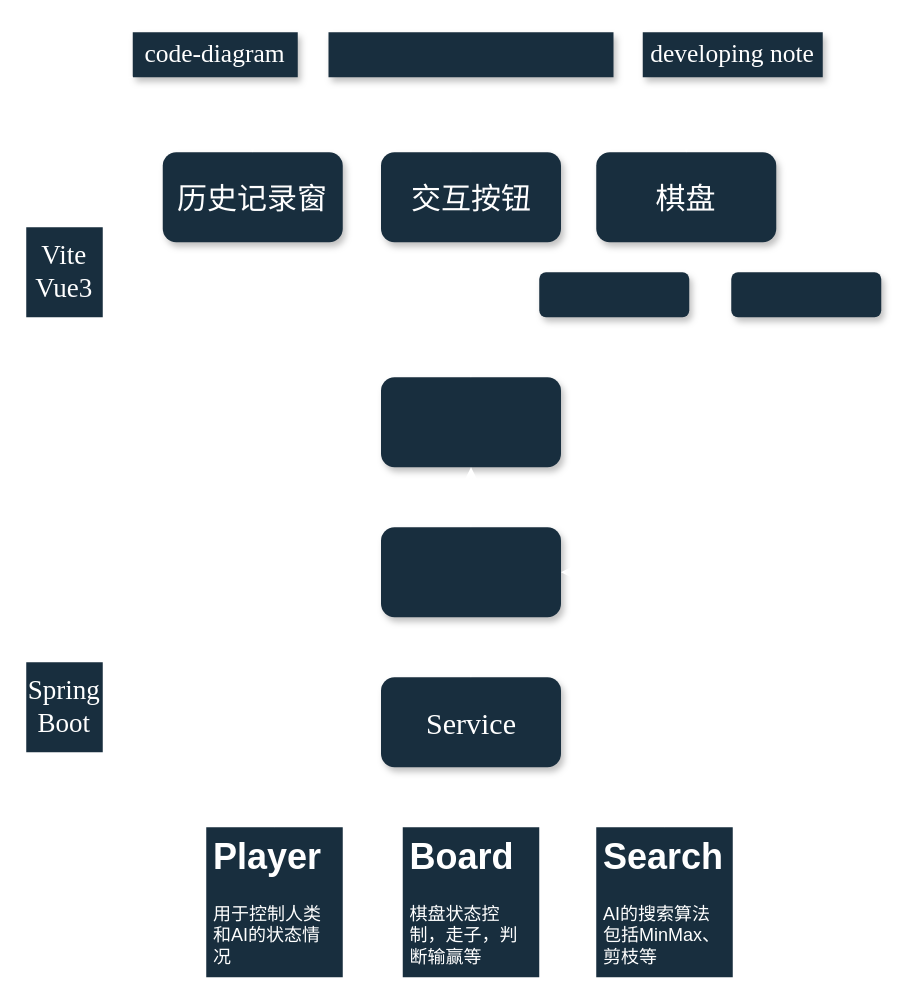
Some shapes in this 923 by 1002 pixel diagram are drawn without their labels. Here are the shapes that lost their labels. From the top down, the centre of each, then its label:
(x=472, y=56): middle-page-container
(x=615, y=296): 人落子
(x=807, y=296): AI人落子
(x=471, y=423): Axios
(x=471, y=573): Controller
